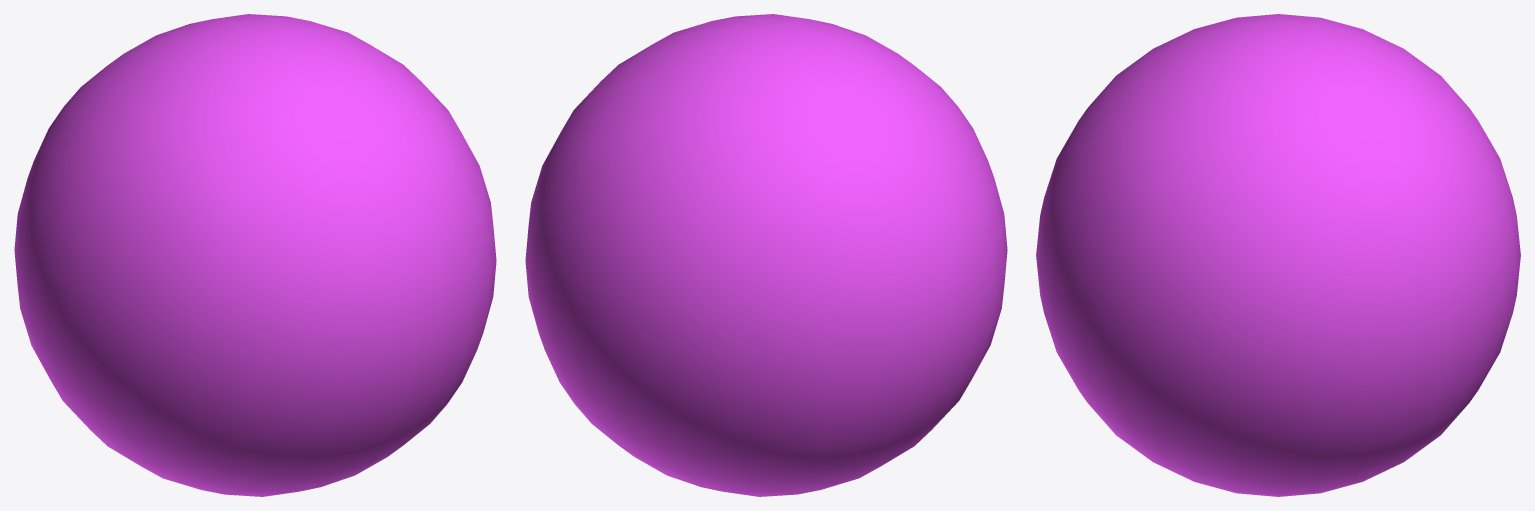
File: Lawn Orb 1.fbx
The picture shows the model from 3 angles, left to right: view 1: azimuth 30°, elevation 25°; view 2: azimuth 150°, elevation 25°; view 3: azimuth 270°, elevation 25°; orthographic projection.
Visible parts, largest first — view 1: Lawn Orb; view 2: Lawn Orb; view 3: Lawn Orb.
Part boxes in pixels (x1,y1,x2,y2): Lawn Orb: (14, 14, 496, 496); Lawn Orb: (525, 14, 1007, 496); Lawn Orb: (1036, 14, 1520, 496).
Bounding box in the file's own units: 7.76 × 7.76 × 7.76.
